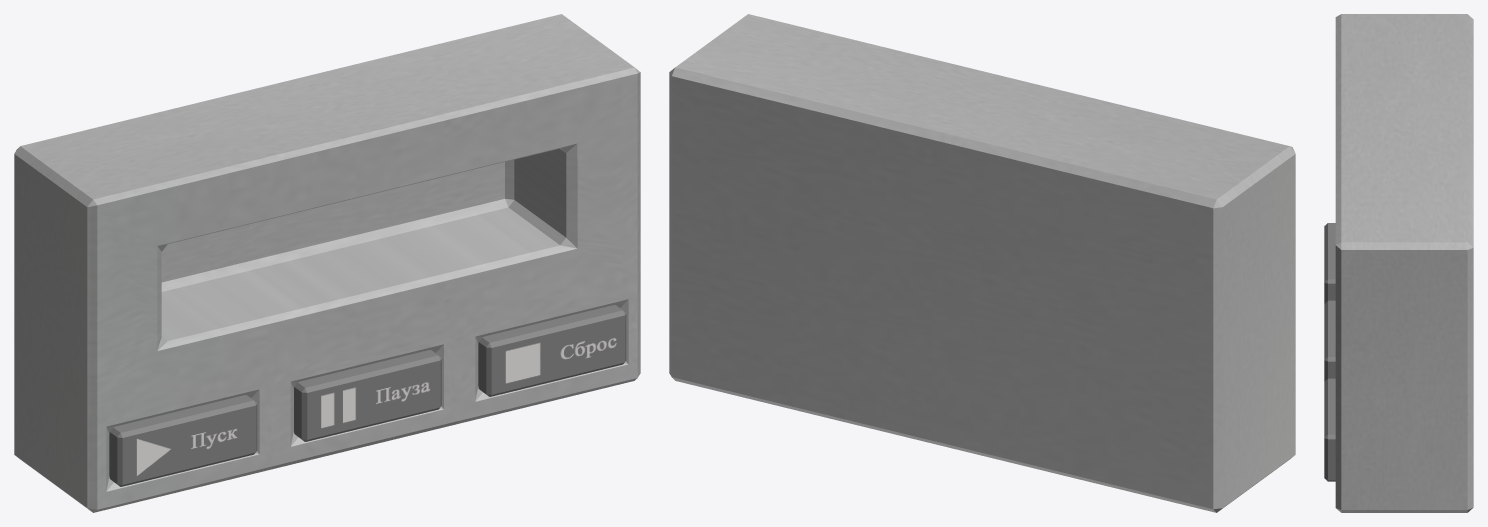
File: timer.fbx
3 views of the same model, side by side, from view 1: azimuth 30°, elevation 25°; view 2: azimuth 150°, elevation 25°; view 3: azimuth 270°, elevation 25° (orthographic). The views are drawn at different scales.
Parts seen in each view (by area): view 1: Таймер, Play, Stop, Pause; view 2: Таймер; view 3: Таймер, Stop, Pause, Play.
Part boxes in pixels (bbox=[...]): Таймер: bbox=[14, 14, 640, 512]; Play: bbox=[109, 395, 257, 486]; Stop: bbox=[478, 305, 626, 396]; Pause: bbox=[294, 350, 441, 441]; Таймер: bbox=[669, 14, 1295, 512]; Таймер: bbox=[1335, 14, 1473, 512]; Stop: bbox=[1324, 378, 1335, 481]; Pause: bbox=[1324, 300, 1335, 381]; Play: bbox=[1324, 223, 1335, 303].
Size of the model in its own units: 4 by 2.16 by 1.08.
Materials: 2 (2 with a texture image).
